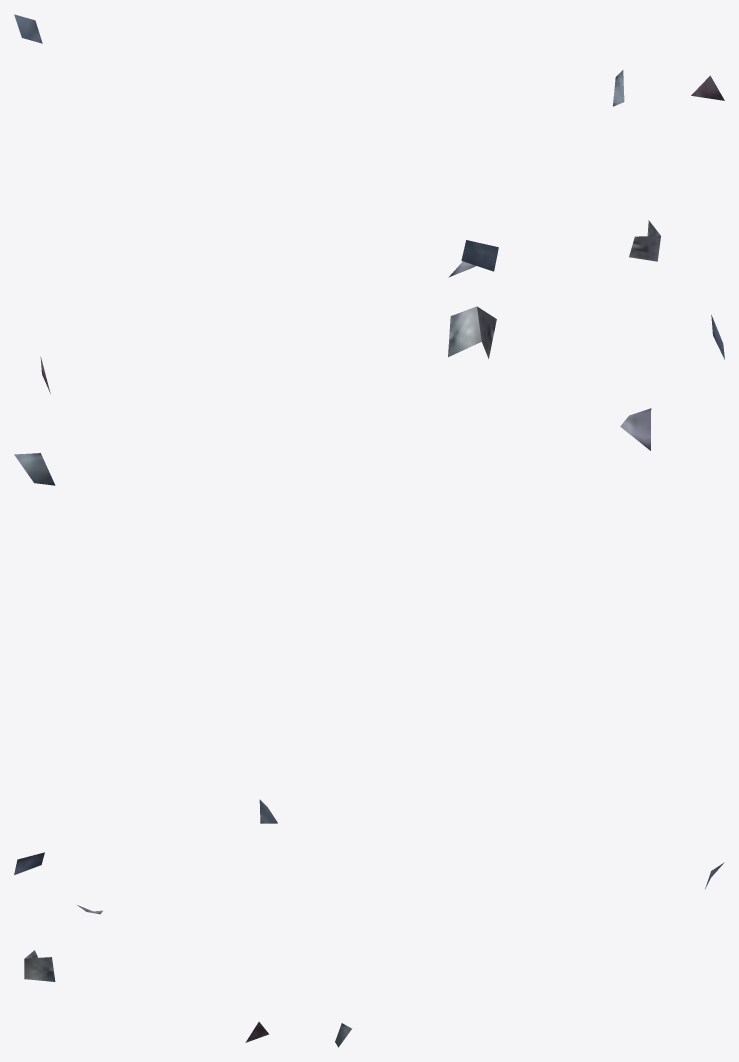
3 views of the same model, one above another, from view 1: azimuth 30°, elevation 25°; view 2: azimuth 150°, elevation 25°; view 3: azimuth 270°, elevation 25° (orthographic). The views are drawn at different scales.
Visible parts, largest first — view 1: 30436272704361627707_1; view 2: 30436272704361627707_1; view 3: 30436272704361627707_1.
Boxes of the visible parts, x1,y1,x2,y2 form: 30436272704361627707_1: (14, 14, 724, 277); 30436272704361627707_1: (14, 306, 724, 823); 30436272704361627707_1: (14, 852, 724, 1047).
Size of the model in its own units: 19.79 by 2.92 by 31.78.
Materials: 1 (1 with a texture image).
